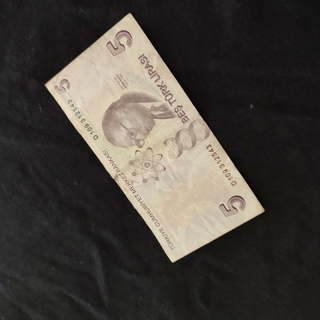5TLBack: (43, 10, 266, 264)
